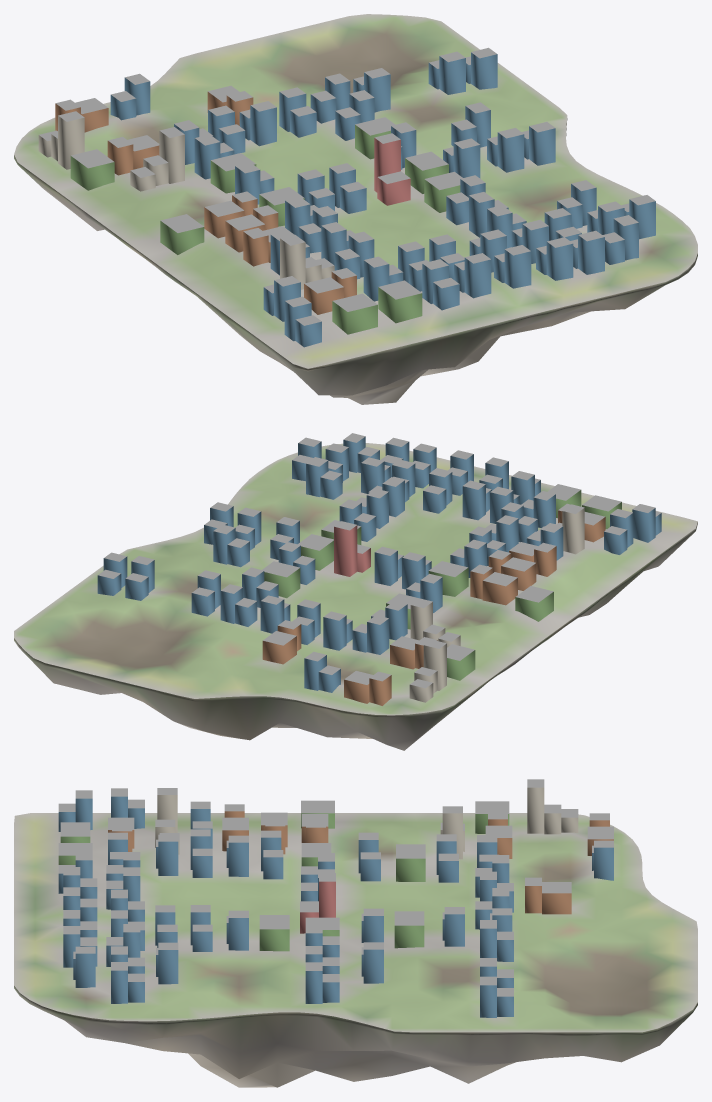
File: SKY-062.lod1.glb
3 views of the same model, one above another, from view 1: azimuth 30°, elevation 25°; view 2: azimuth 150°, elevation 25°; view 3: azimuth 270°, elevation 25° (orthographic). The views are drawn at different scales.
Parts seen in each view (by area): view 1: buildings, deck, rock; view 2: deck, buildings, rock; view 3: deck, buildings, rock.
Part boxes in pixels (x1,y1,x2,y2): buildings: [38, 47, 655, 347]; deck: [14, 14, 697, 368]; rock: [14, 118, 697, 404]; deck: [14, 443, 697, 715]; buildings: [97, 433, 661, 705]; rock: [14, 522, 697, 750]; deck: [14, 813, 697, 1032]; buildings: [58, 779, 613, 1017]; rock: [14, 986, 697, 1087].
Bounding box in the file's own units: 244 × 112 × 322.
